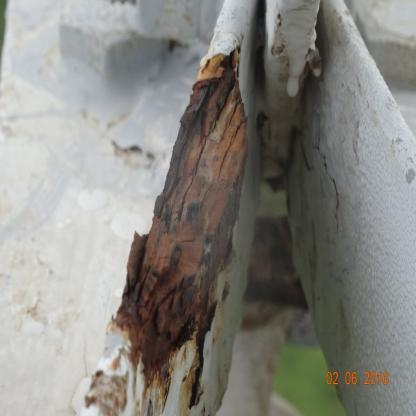Grado3: (124, 47, 252, 373)
